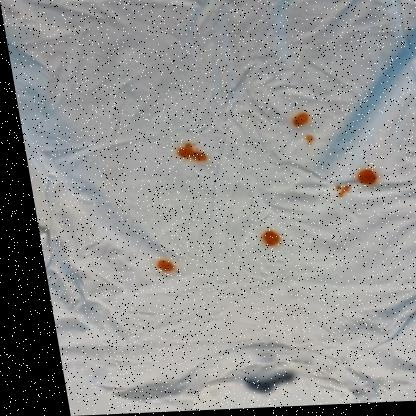kimchi: (174, 138, 207, 170), (354, 162, 376, 191), (258, 224, 282, 250), (290, 110, 311, 132), (332, 179, 350, 198), (155, 259, 172, 275), (304, 136, 316, 146)
